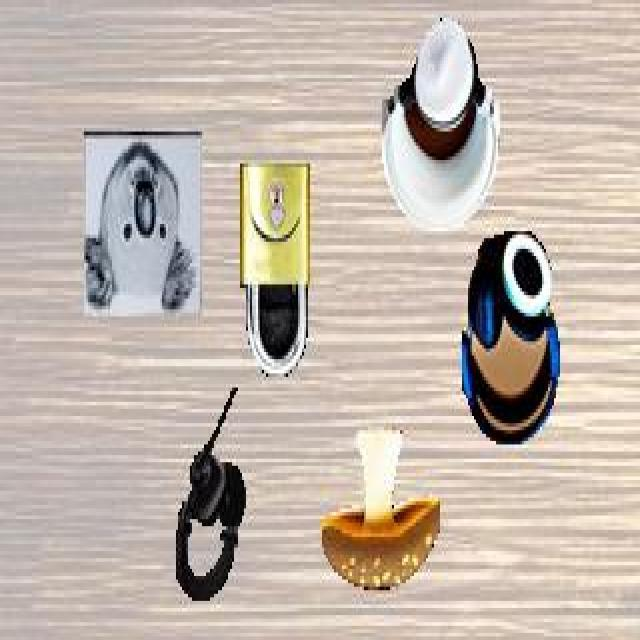Other Objects: (382, 19, 501, 231), (462, 232, 562, 446), (322, 429, 440, 591), (240, 162, 310, 380), (176, 388, 247, 602)
